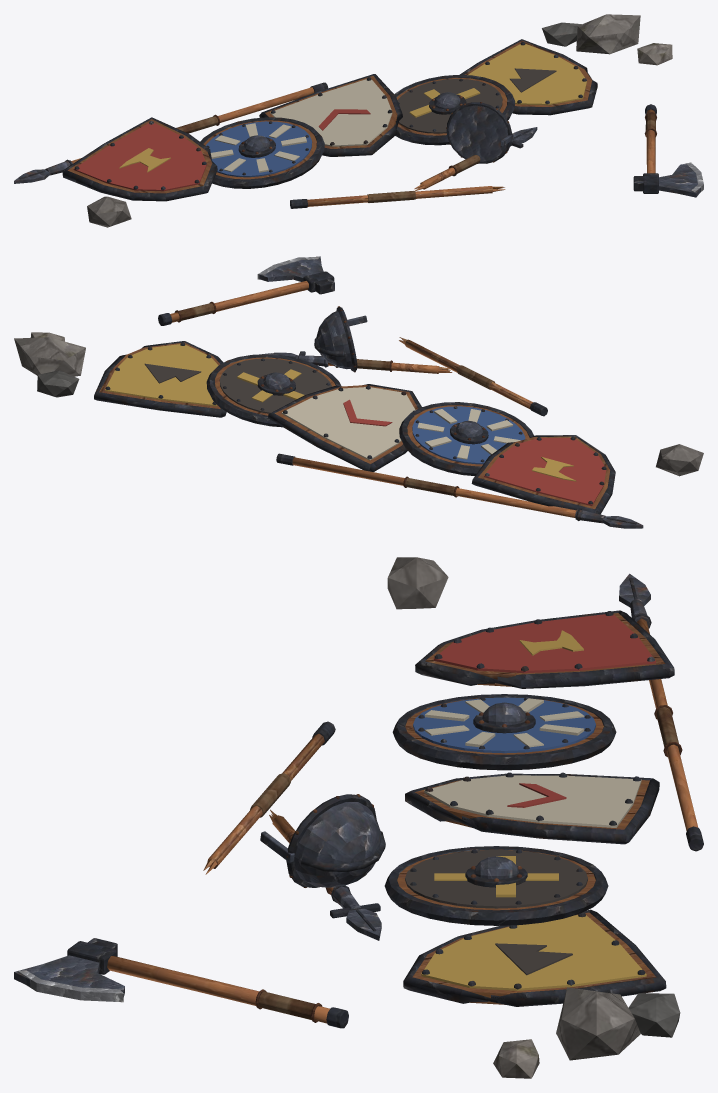
Rendered from hs_fallen_shield_wall.glb.
The picture shows the model from 3 angles, top to bottom: view 1: azimuth 30°, elevation 25°; view 2: azimuth 150°, elevation 25°; view 3: azimuth 270°, elevation 25°; orthographic projection. The views are drawn at different scales.
Visible parts, largest first — view 1: model; view 2: model; view 3: model.
Boxes of the visible parts, left/top/right/bottom form: model: left=14, top=14, right=703, bottom=227; model: left=14, top=256, right=703, bottom=528; model: left=14, top=557, right=703, bottom=1078.
Bounding box in the file's own units: 2.99 × 0.2648 × 1.73.
Materials: 16 (11 with a texture image).
